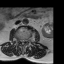CCS_normal: (21, 37, 23, 46)
LFS_stenosis: (25, 37, 27, 43)
LLS_stenosis: (23, 38, 25, 43)
RFS_stenosis: (18, 38, 20, 43)
RLS_stenosis: (20, 37, 21, 43)
